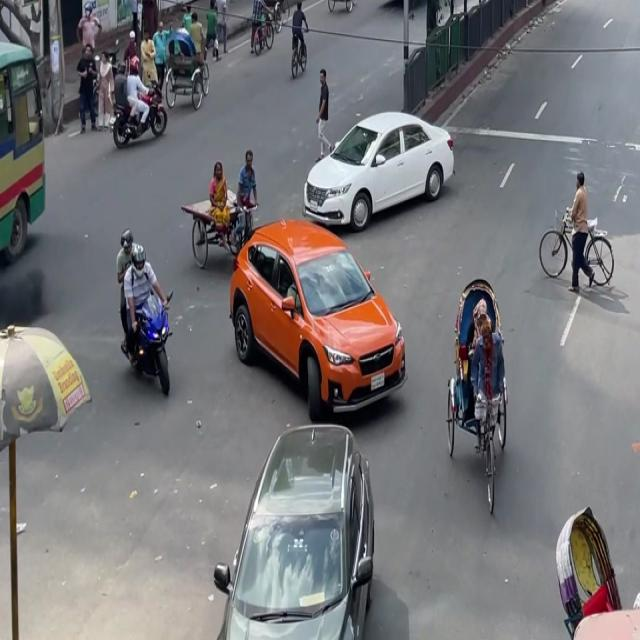bicycle: (538, 206, 622, 307), (284, 2, 312, 82)
car: (206, 401, 390, 638), (222, 207, 413, 435), (301, 86, 460, 246), (638, 0, 640, 42)
motorbike: (105, 224, 188, 404), (110, 70, 175, 154)
